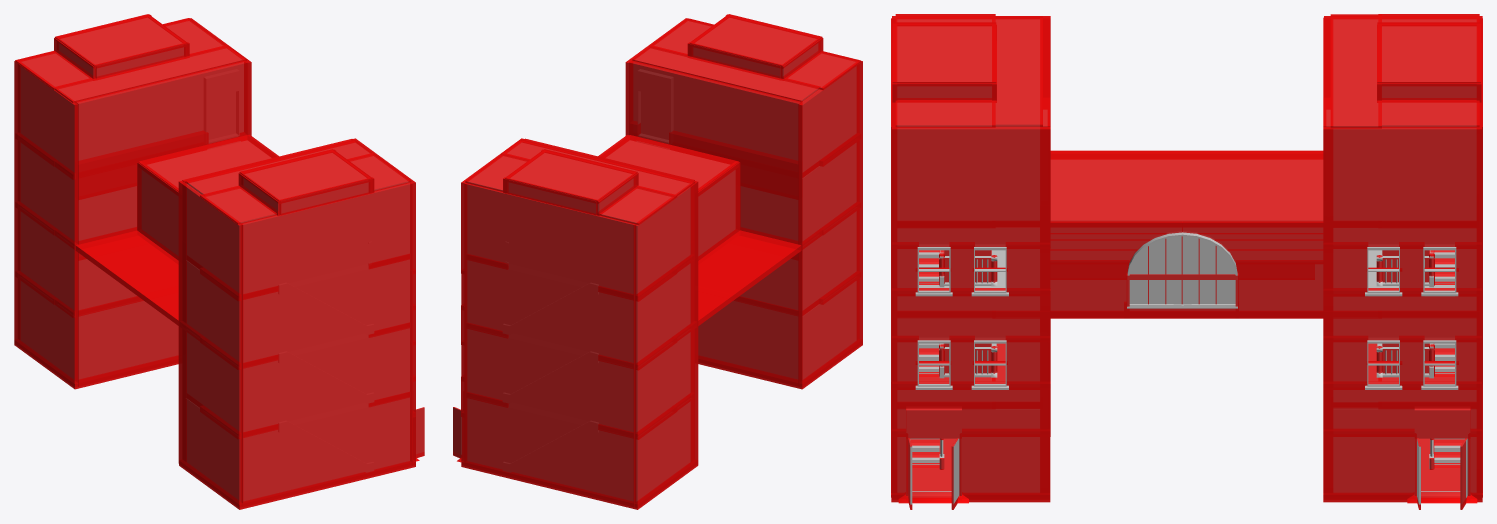
File: CT_Interior_005.dae
The picture shows the model from 3 angles, left to right: view 1: azimuth 30°, elevation 25°; view 2: azimuth 150°, elevation 25°; view 3: azimuth 270°, elevation 25°; orthographic projection. The views are drawn at different scales.
Visible parts, largest first — view 1: colmesh-1, _005_int400; view 2: colmesh-1, _005_int400; view 3: colmesh-1, _005_int400.
Boxes of the visible parts, left/top/right/bottom form: colmesh-1: left=14, top=14, right=424, bottom=509; _005_int400: left=21, top=18, right=423, bottom=500; colmesh-1: left=453, top=14, right=862, bottom=509; _005_int400: left=453, top=18, right=855, bottom=500; colmesh-1: left=891, top=14, right=1482, bottom=509; _005_int400: left=898, top=20, right=1475, bottom=504.
Bounding box in the file's own units: 10.54 × 15.64 × 21.37.
